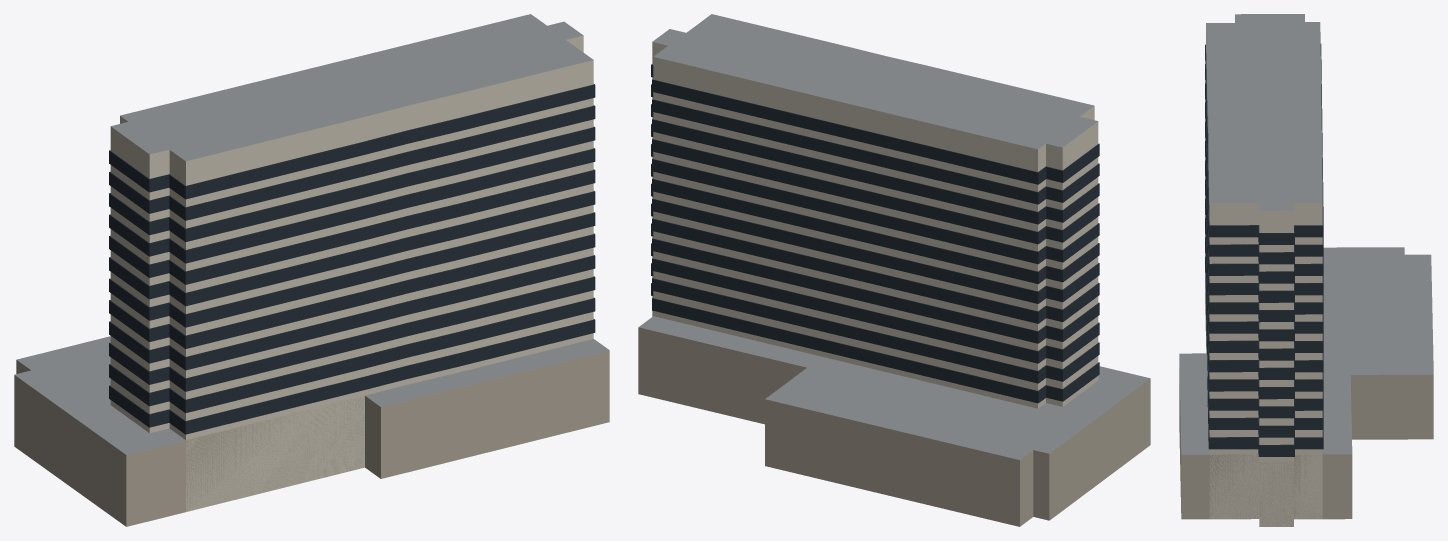
The model's file is radisson.glb.
3 renders of one model, left to right at view 1: azimuth 30°, elevation 25°; view 2: azimuth 150°, elevation 25°; view 3: azimuth 270°, elevation 25°, orthographic. The views are drawn at different scales.
Visible parts, largest first — view 1: Radisson; view 2: Radisson; view 3: Radisson.
Part boxes in pixels (x1,y1,x2,y2): Radisson: (14, 14, 609, 526); Radisson: (638, 14, 1150, 526); Radisson: (1179, 14, 1433, 526).
Bounding box in the file's own units: 82.71 × 56.6 × 41.32.
